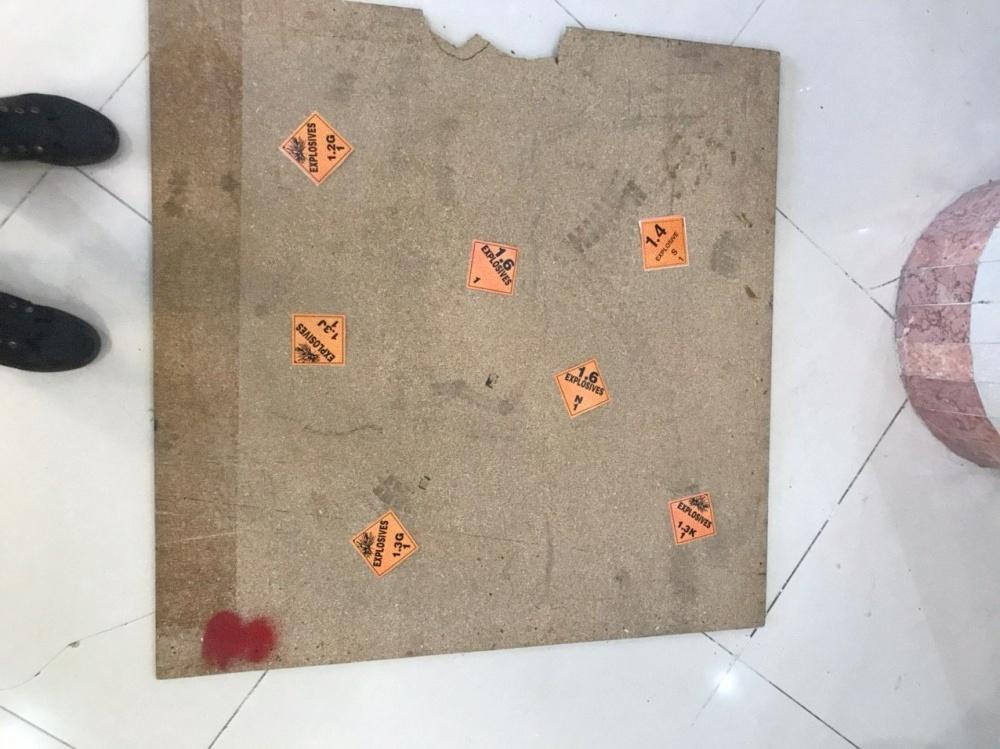explosive: (278, 110, 355, 187), (350, 509, 419, 578), (554, 359, 611, 419), (288, 313, 348, 368), (637, 213, 690, 272), (465, 239, 521, 294), (669, 489, 717, 546)
